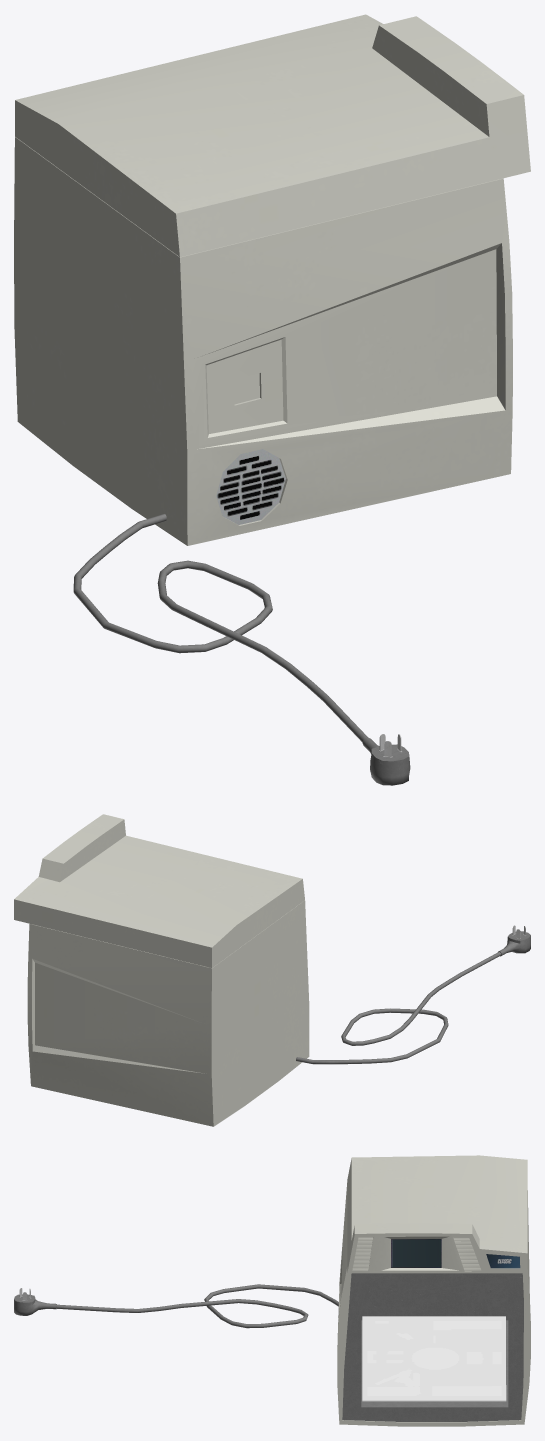
File: SM_微波消解仪.fbx
3 views of the same model, one above another, from view 1: azimuth 30°, elevation 25°; view 2: azimuth 150°, elevation 25°; view 3: azimuth 270°, elevation 25° (orthographic). The views are drawn at different scales.
Visible parts, largest first — view 1: SM_微波消解仪; view 2: SM_微波消解仪; view 3: SM_微波消解仪.
Part boxes in pixels (bbox=[...]): SM_微波消解仪: bbox=[14, 14, 530, 785]; SM_微波消解仪: bbox=[14, 814, 530, 1126]; SM_微波消解仪: bbox=[14, 1155, 530, 1426].
Size of the model in its own units: 0.4352 by 0.2999 by 0.7007.
